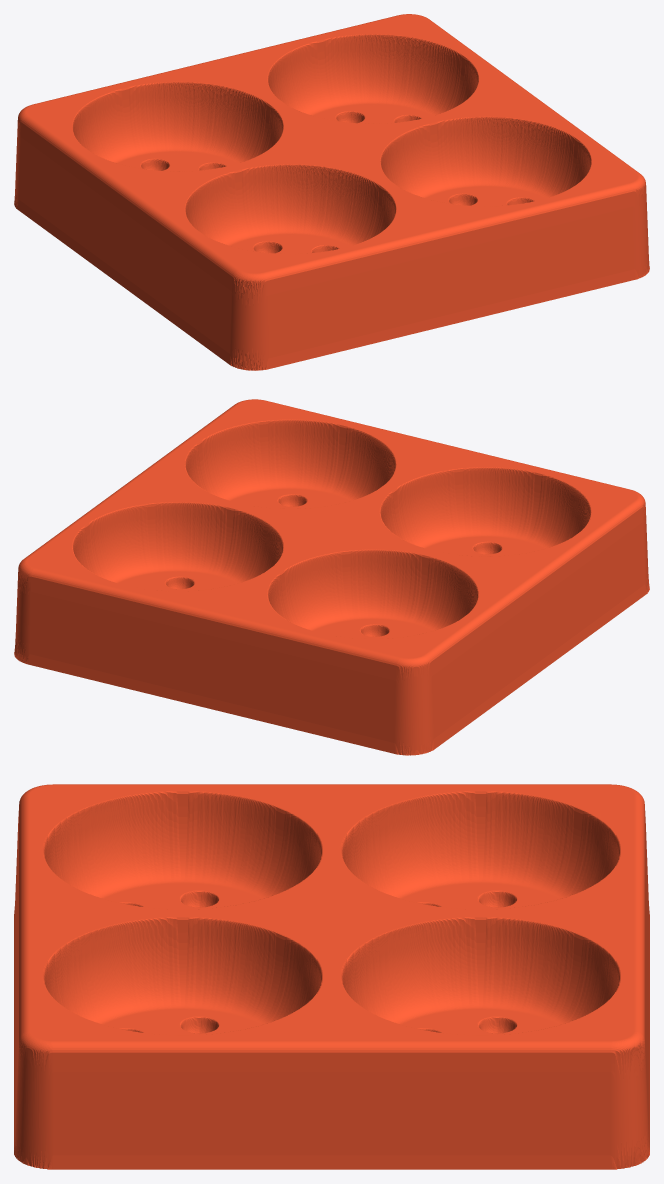
The model's file is mold.glb.
The picture shows the model from 3 angles, top to bottom: view 1: azimuth 30°, elevation 25°; view 2: azimuth 150°, elevation 25°; view 3: azimuth 270°, elevation 25°; orthographic projection. The views are drawn at different scales.
Parts seen in each view (by area): view 1: geometry_0; view 2: geometry_0; view 3: geometry_0.
Boxes of the visible parts, box(x1,y1,x2,y2) form: geometry_0: box(14, 14, 649, 370); geometry_0: box(14, 399, 649, 755); geometry_0: box(14, 784, 649, 1169).
Bounding box in the file's own units: 0.1466 × 0.031 × 0.1466.
